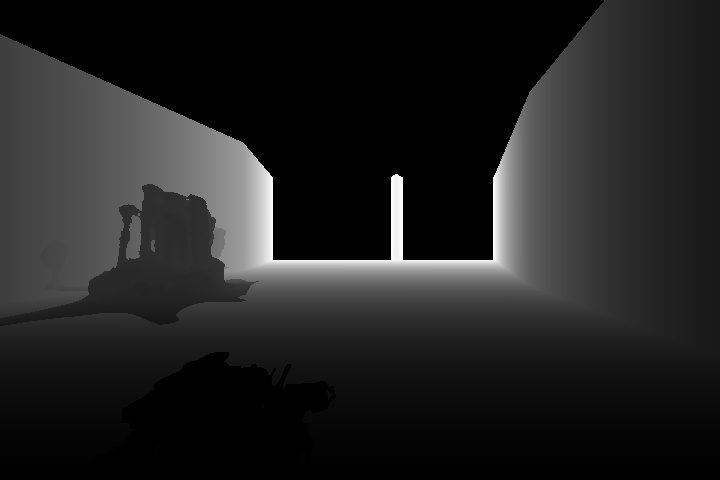green rock: (1, 181, 261, 328)
